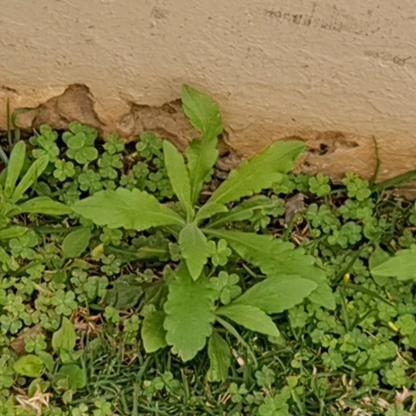Weeds: (68, 82, 340, 362), (0, 136, 67, 251)
